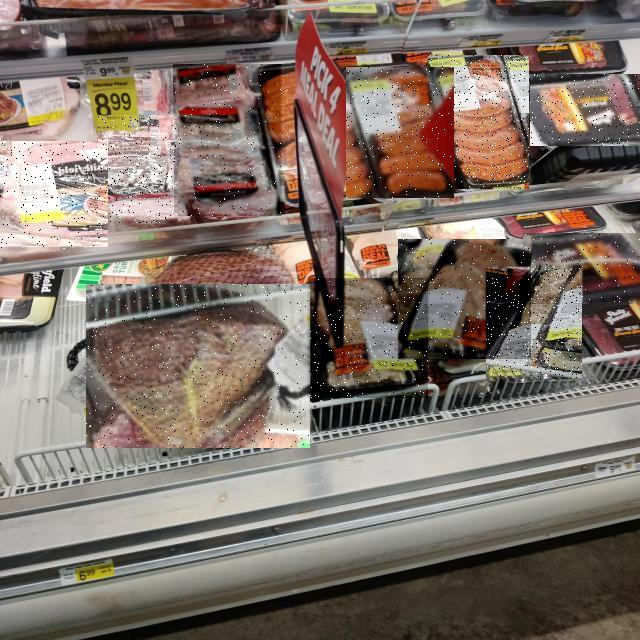Meat: (87, 284, 311, 448), (174, 65, 284, 217), (398, 239, 531, 359), (308, 279, 428, 399), (346, 67, 454, 198), (428, 55, 529, 189), (0, 142, 108, 250), (486, 267, 582, 379), (99, 116, 179, 224), (523, 234, 640, 304), (530, 74, 640, 146)
